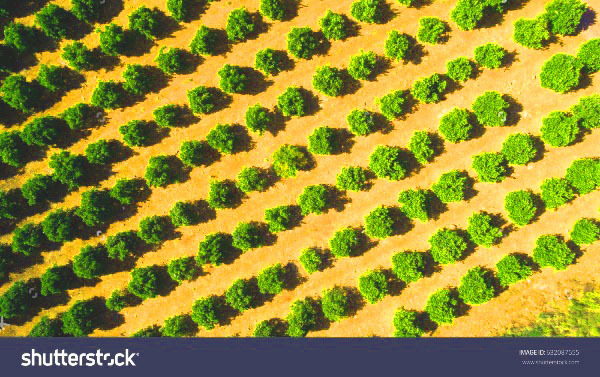TREE: (540, 53, 581, 92), (369, 144, 410, 182), (290, 292, 322, 340), (428, 229, 468, 266), (547, 1, 590, 34), (472, 91, 510, 128), (65, 300, 104, 336), (534, 236, 576, 269), (457, 268, 496, 303), (433, 170, 471, 204), (323, 286, 357, 324), (500, 133, 540, 164), (427, 287, 458, 327), (24, 119, 65, 149), (1, 76, 36, 111), (80, 192, 114, 227), (98, 24, 131, 60), (2, 288, 34, 325), (33, 6, 72, 36), (506, 189, 537, 226), (21, 179, 60, 208), (513, 19, 552, 48), (472, 153, 511, 182), (273, 145, 308, 177), (401, 188, 436, 220), (497, 255, 532, 287), (410, 73, 447, 103), (15, 223, 43, 262), (52, 153, 83, 188), (468, 216, 503, 247), (287, 26, 319, 59), (543, 113, 575, 146), (197, 235, 231, 266), (345, 110, 388, 134), (224, 7, 256, 39), (4, 25, 38, 55), (328, 228, 362, 258), (570, 159, 600, 193), (541, 177, 573, 208), (43, 212, 76, 242), (121, 63, 150, 97), (210, 180, 244, 209), (357, 271, 388, 302), (74, 249, 104, 281), (452, 2, 486, 30), (131, 270, 165, 298), (110, 231, 141, 261), (308, 128, 340, 157), (394, 251, 423, 283), (207, 123, 235, 156), (236, 167, 269, 195), (128, 7, 157, 38), (192, 299, 223, 328), (227, 279, 254, 312), (92, 79, 121, 109), (321, 11, 350, 41), (276, 87, 306, 116), (394, 307, 424, 336), (377, 90, 408, 118), (439, 111, 470, 139), (297, 185, 329, 212), (149, 156, 175, 189), (42, 270, 72, 298), (265, 206, 296, 233), (351, 1, 387, 24), (119, 119, 148, 147), (313, 68, 343, 95), (365, 209, 392, 239), (475, 44, 506, 70), (409, 133, 435, 164), (257, 268, 288, 294), (577, 94, 600, 129), (70, 2, 103, 26), (1, 134, 25, 167), (233, 223, 266, 247), (349, 50, 377, 78), (84, 144, 114, 170), (139, 217, 169, 243), (419, 17, 444, 48), (580, 38, 600, 76), (246, 104, 272, 133), (385, 31, 410, 60), (61, 105, 92, 128), (338, 168, 369, 190), (188, 87, 214, 113), (191, 26, 214, 55), (446, 57, 475, 80), (63, 42, 88, 68), (170, 203, 198, 226), (153, 104, 182, 126), (167, 257, 196, 279), (261, 1, 291, 22), (37, 65, 61, 91), (159, 50, 185, 74), (115, 182, 141, 206), (31, 319, 63, 338), (255, 48, 279, 73), (181, 141, 205, 166), (220, 64, 243, 90), (302, 250, 327, 273), (165, 314, 191, 336), (572, 218, 593, 244), (1, 193, 15, 231), (136, 321, 161, 338), (168, 1, 189, 20), (1, 244, 11, 283), (256, 324, 275, 339), (107, 292, 120, 309)
